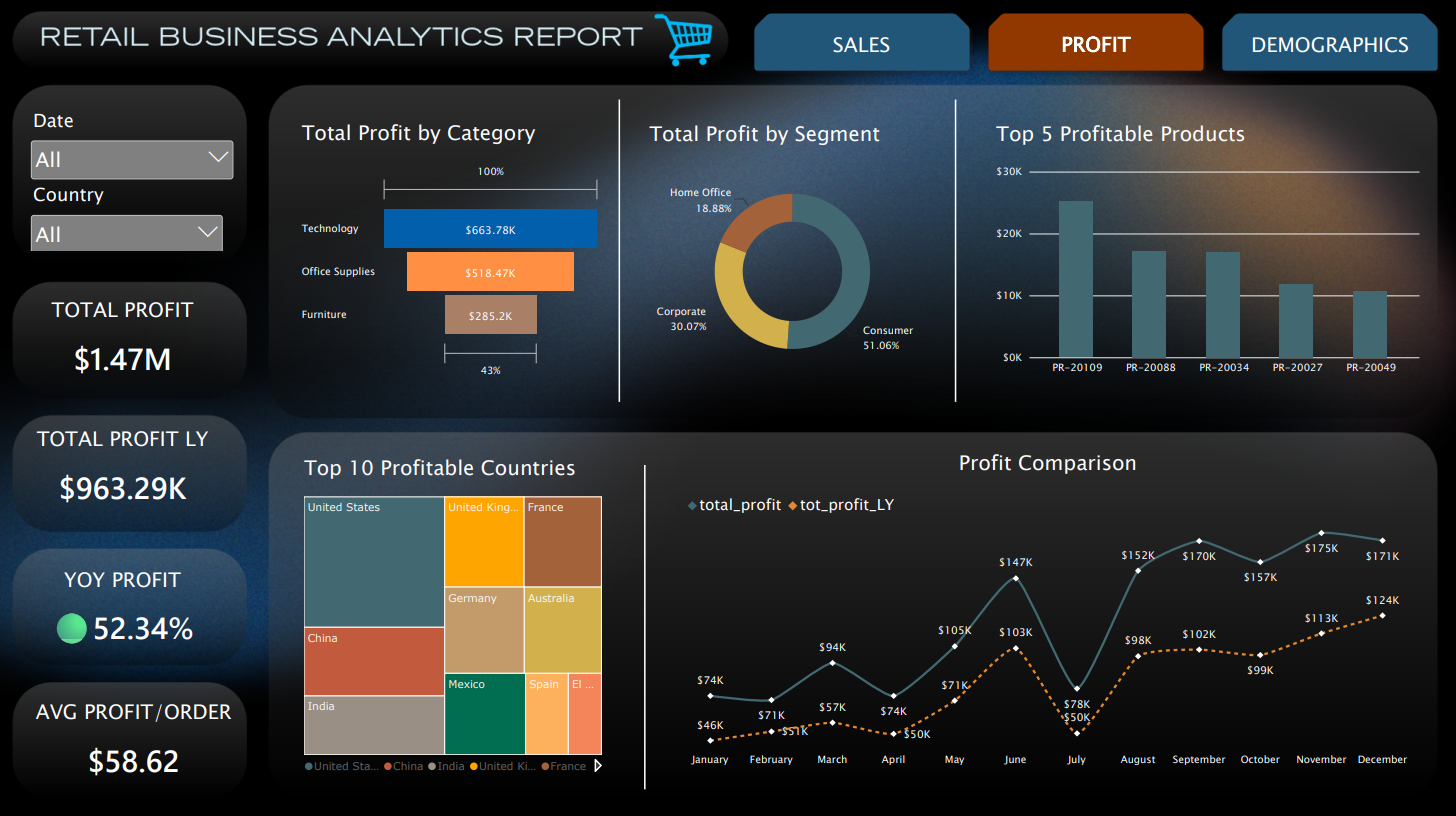

The dashboard page shown, as its layout file describes it:
{"tool":"powerbi","page":{"name":"PROFIT","canvas":[1920,1080],"ordinal":1},"visuals":[{"type":"pageNavigator","box":[985,10,917.5,92.5],"z":0},{"type":"card","title":"TOTAL PROFIT","fields":{"Values":["Calculated_Table.total_profit"]},"box":[27.5,375,271.1,136.8],"z":1000},{"type":"card","title":"AVG PROFIT/ORDER","fields":{"Values":["Calculated_Table.avg_profit_per_order"]},"box":[27.5,905,300,137.1],"z":2000},{"type":"card","title":"YOY PROFIT","fields":{"Values":["Calculated_Table.YoY_profit"]},"box":[27.5,730,271.1,136.8],"z":3000},{"type":"card","title":"TOTAL PROFIT LY","fields":{"Values":["Calculated_Table.tot_profit_LY"]},"box":[27.5,545,271.1,136.8],"z":4000},{"type":"slicer","fields":{"Values":["location_table.Country"]},"box":[38.1,240.5,261.9,90.5],"z":5000},{"type":"treemap","title":"Top 10 Profitable Countries","fields":{"Group":["location_table.Country"],"Values":["Calculated_Table.total_profit"]},"box":[385.7,582.9,422.9,457.1],"z":6000},{"type":"donutChart","title":"Total Profit by Segment","fields":{"Category":["customer_table.Segment"],"Y":["Calculated_Table.total_profit"]},"box":[840,144,408.3,371.7],"z":7000},{"type":"funnel","title":"Total Profit by Category","fields":{"Category":["product_table.Category"],"Y":["Calculated_Table.total_profit"]},"box":[383.3,141.7,425,376.7],"z":8000},{"type":"shape","box":[816.7,613.3,66.7,426.7],"z":9000},{"type":"clusteredColumnChart","title":"Top 5 Profitable Products","fields":{"Category":["product_table.Product_ID"],"Y":["Calculated_Table.total_profit"]},"box":[1296,144,588.3,371.7],"z":10000},{"type":"shape","box":[783.3,131.7,66.7,398.3],"z":11000},{"type":"shape","box":[1225,131.7,66.7,398.3],"z":12000},{"type":"lineChart","title":"Profit Comparison","fields":{"Category":["date_table.Date.Variation.Date Hierarchy.Month"],"Y":["Calculated_Table.total_profit","Calculated_Table.tot_profit_LY"]},"box":[888,576,984,456],"z":13000},{"type":"slicer","fields":{"Values":["date_table.Date.Variation.Date Hierarchy.Year","date_table.Date.Variation.Date Hierarchy.Month"]},"box":[38,142,276,98],"z":14000}]}

Visuals, with their boxes in screenshot pixels (x1, y1, x2, y2), scaled from the page's 1920x1080 canvas onto the 1456x816 screenshot:
pageNavigator: 747/8/1443/77
"TOTAL PROFIT" card: 21/283/226/387
"AVG PROFIT/ORDER" card: 21/684/248/787
"YOY PROFIT" card: 21/552/226/655
"TOTAL PROFIT LY" card: 21/412/226/515
slicer - location_table.Country: 29/182/228/250
"Top 10 Profitable Countries" treemap: 292/440/613/786
"Total Profit by Segment" donutChart: 637/109/947/390
"Total Profit by Category" funnel: 291/107/613/392
shape: 619/463/670/786
"Top 5 Profitable Products" clusteredColumnChart: 983/109/1429/390
shape: 594/100/645/400
shape: 929/100/980/400
"Profit Comparison" lineChart: 673/435/1420/780
slicer - date_table.Date.Variation.Date Hierarchy.Year x date_table.Date.Variation.Date Hierarchy.Month: 29/107/238/181
